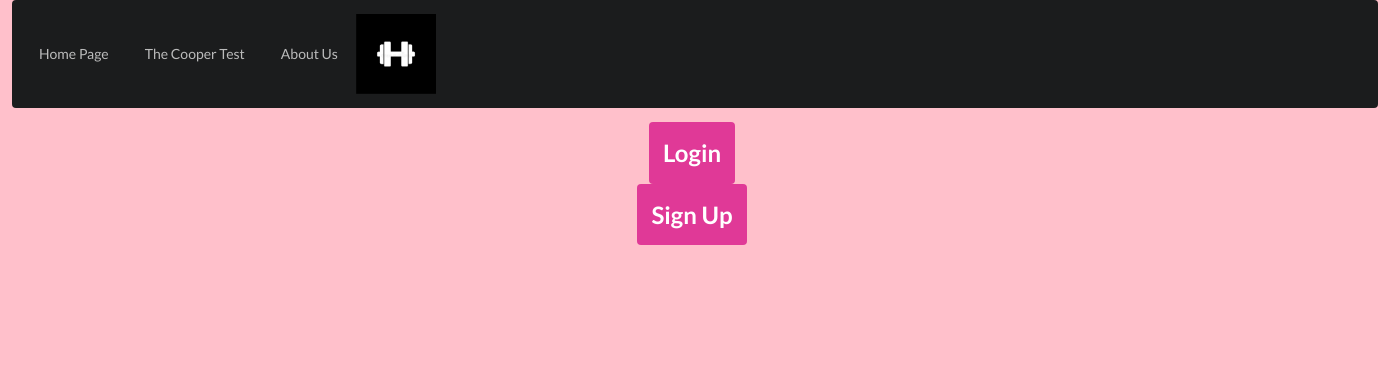
Scenario: User can log in › with invalid credentials
The width and height of the screenshot is (1378, 365).
Click the button with id "login" at (692, 153), box [649,122,735,184]
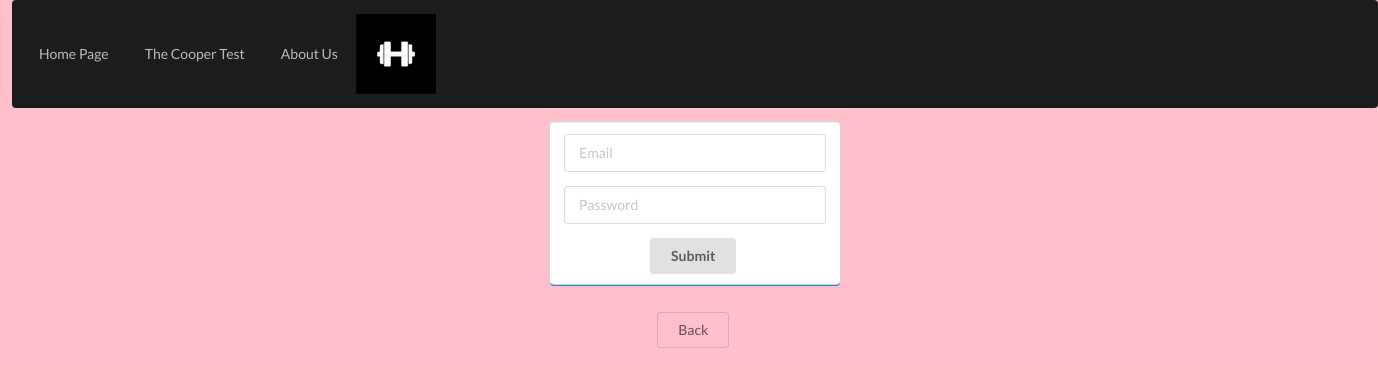
Type "hej@gmail.com" into the field with id "email" at (695, 153), box [564,134,826,172]
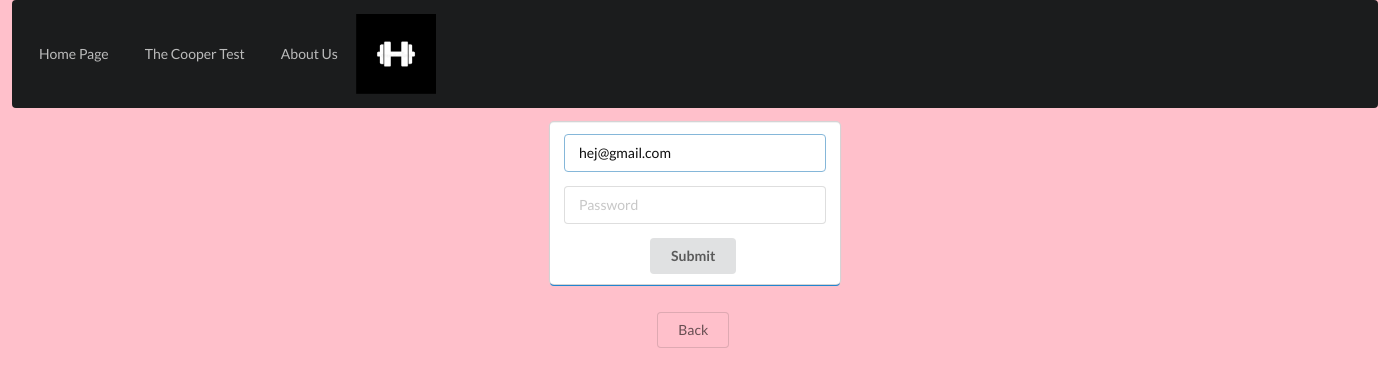
Type "wrong_password" into the password field with placeholder "Password" at (695, 205), box [564,186,826,224]
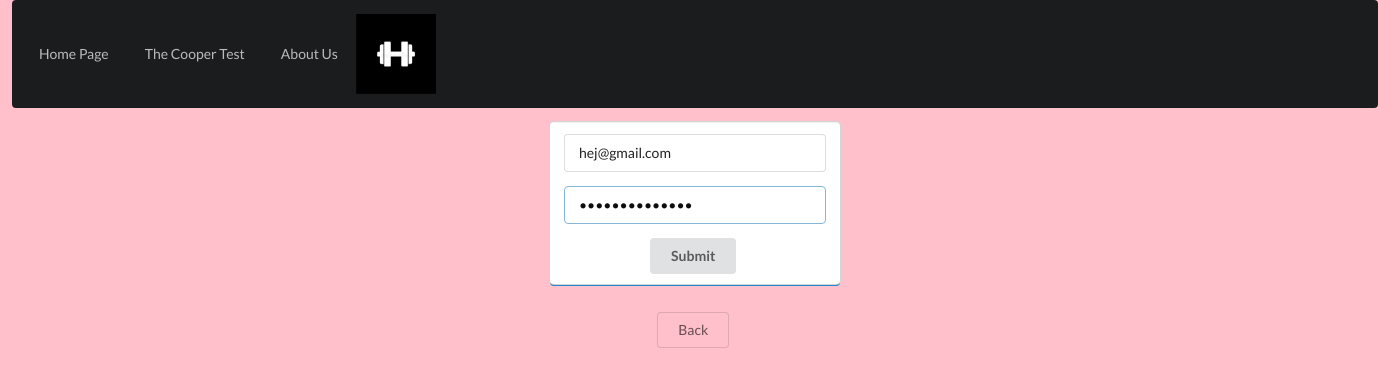
Click the button "Submit" at (694, 256), box [650,238,737,274]
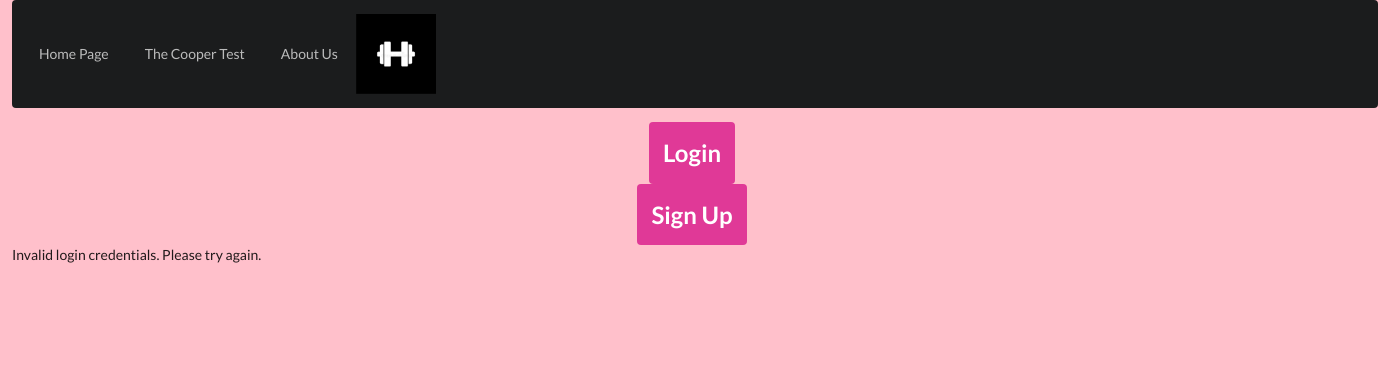
Now the text with id "message" reads "Invalid login credentials. Please try again.", box [12,246,261,263]
